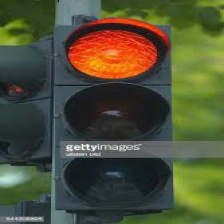semaforo: (51, 15, 174, 218)
